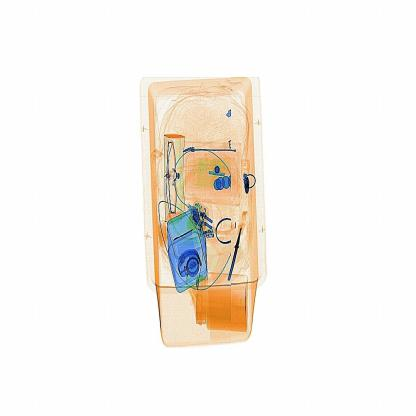gun: (226, 210, 248, 278)
